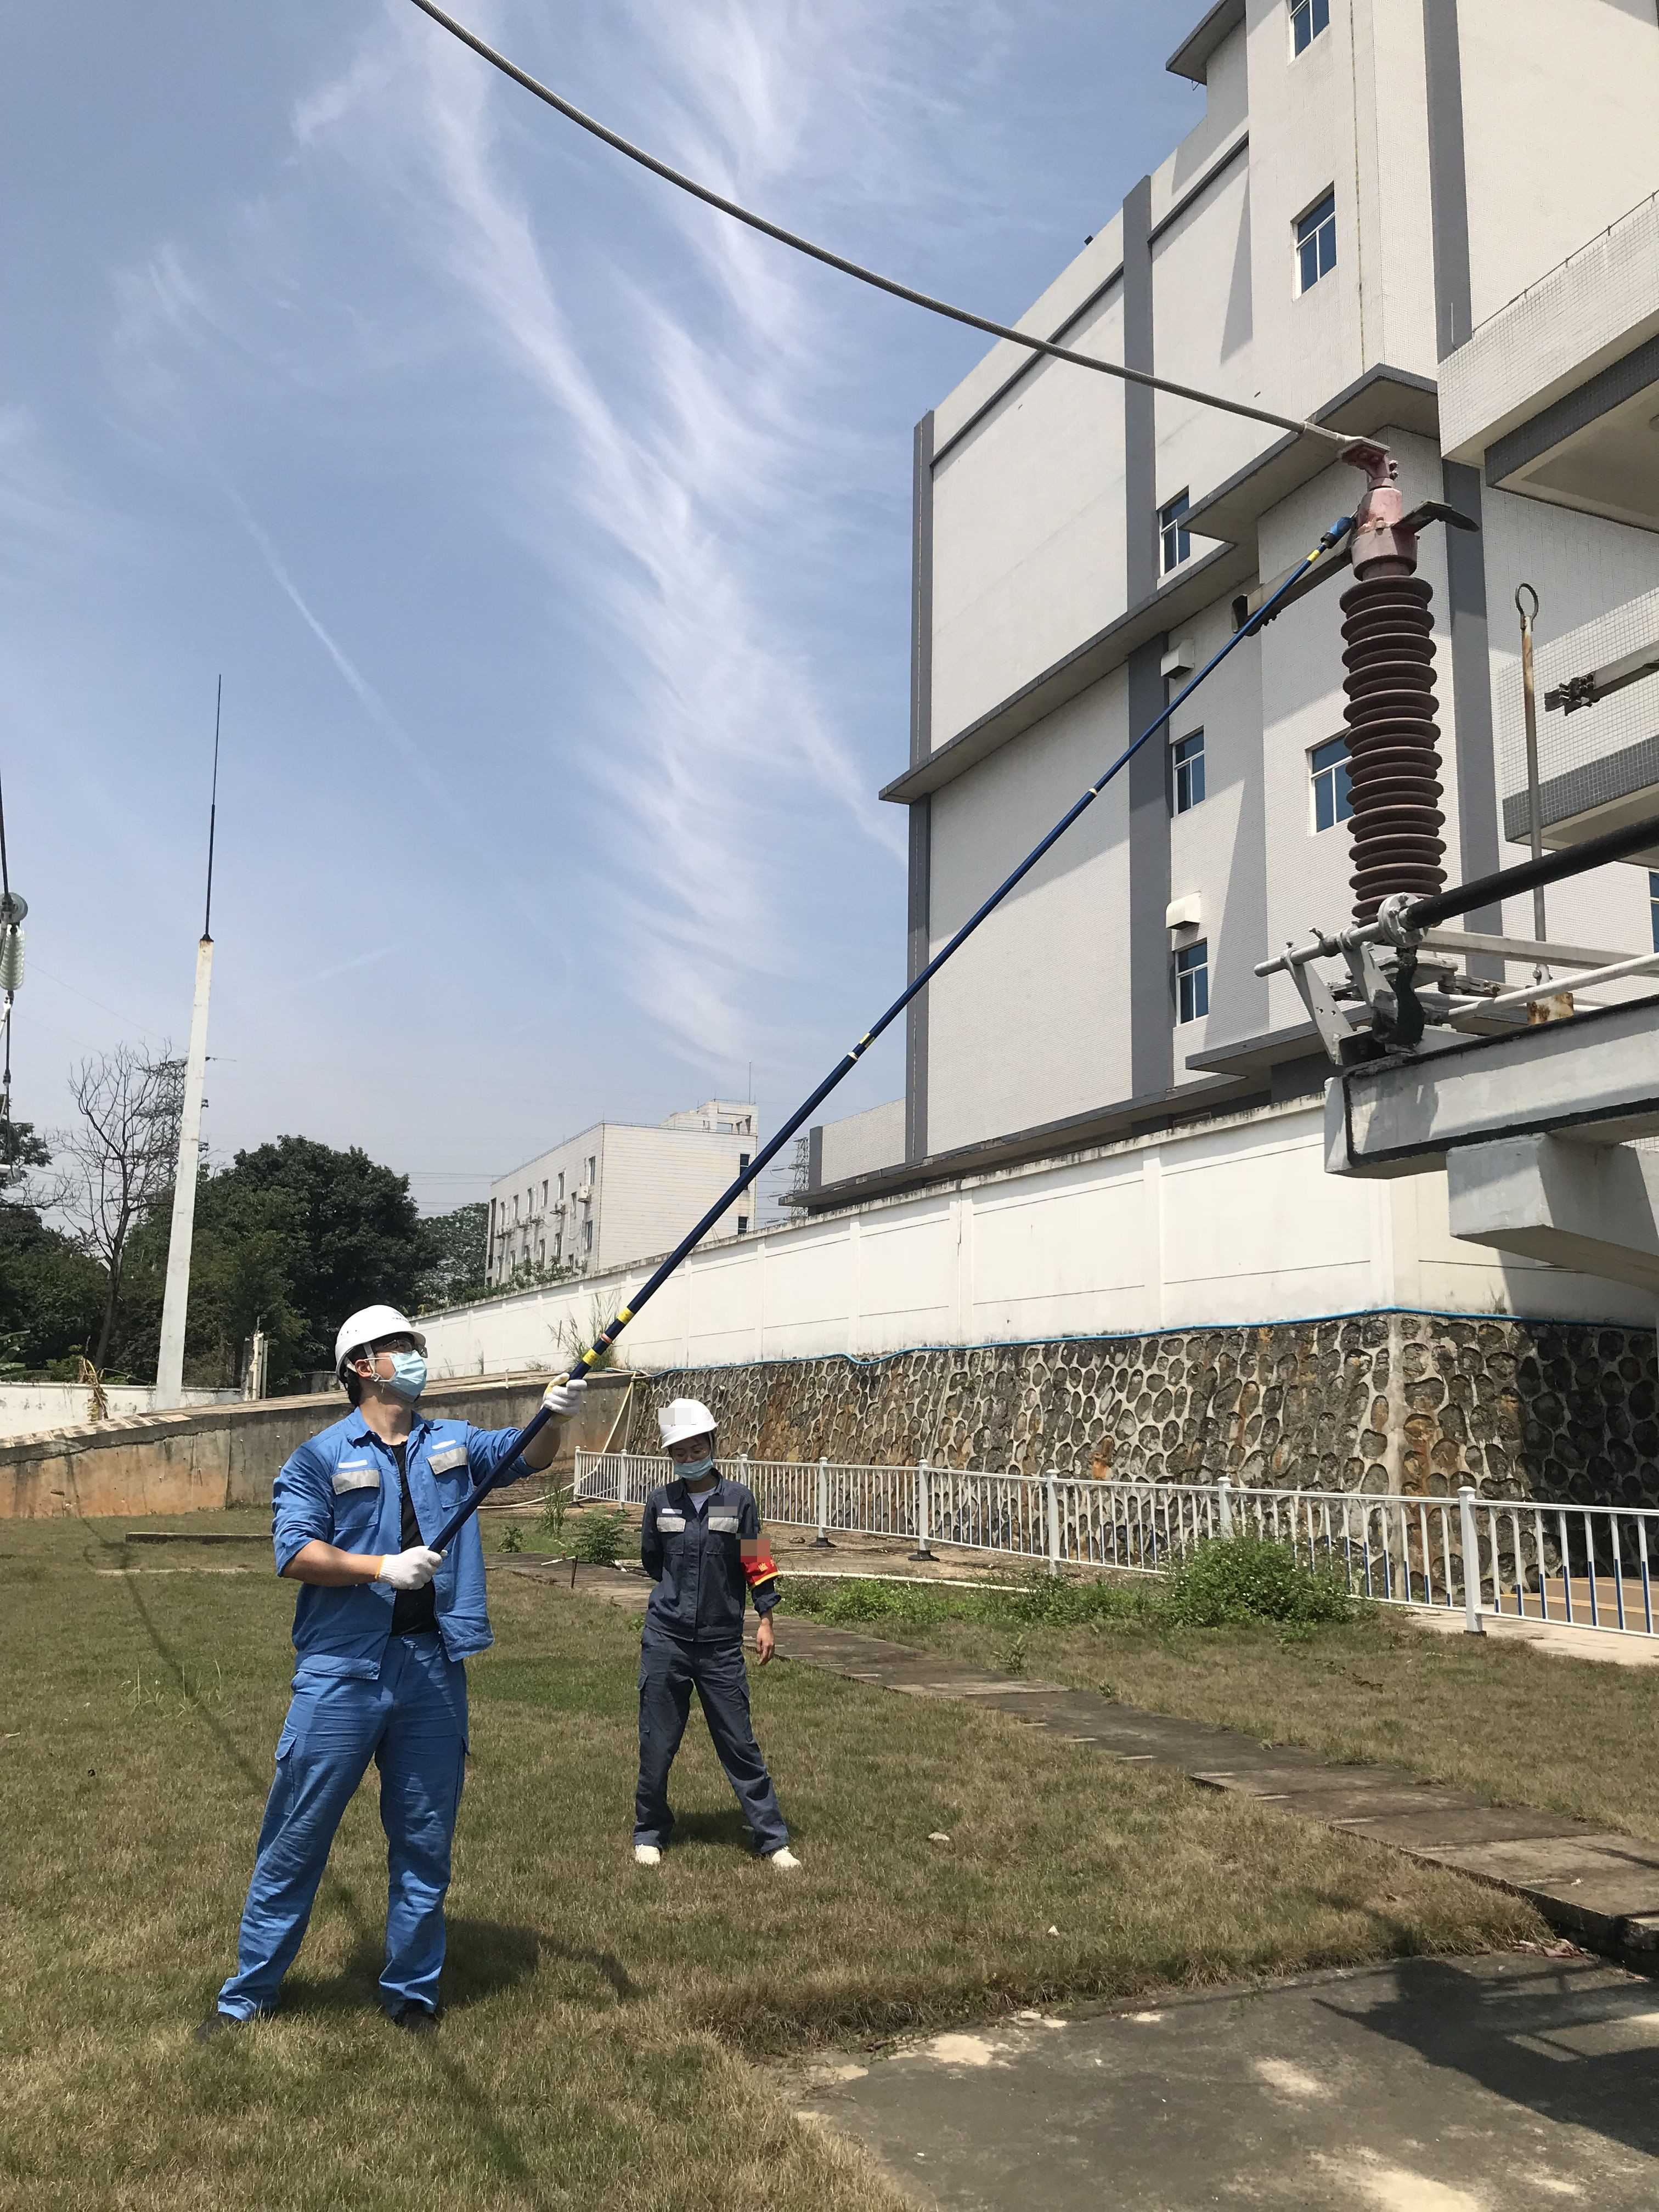downsuit: (230, 1689, 479, 2006), (633, 1667, 781, 1843)
upsuit: (272, 1407, 526, 1649), (629, 1470, 782, 1649)
wrongsuit: (364, 1432, 462, 1660)
wrongtop: (279, 1531, 390, 1592)
